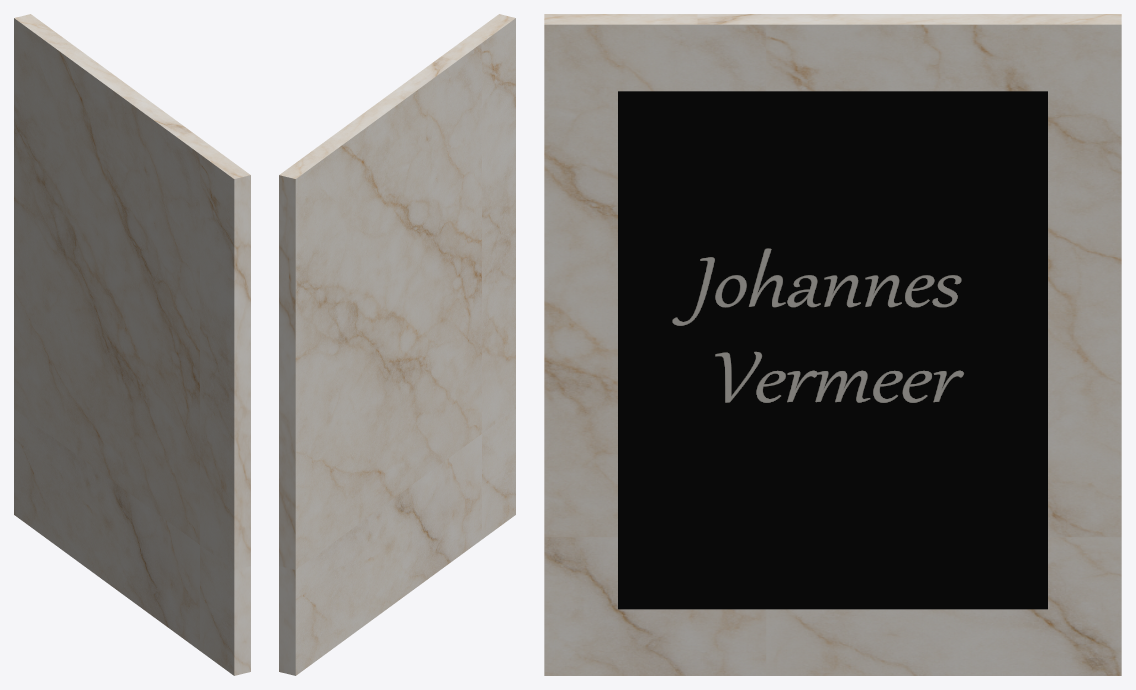
Rendered from Carta vermeer fr.fbx.
3 views of the same model, side by side, from view 1: azimuth 30°, elevation 25°; view 2: azimuth 150°, elevation 25°; view 3: azimuth 270°, elevation 25° (orthographic). The views are drawn at different scales.
Parts seen in each view (by area): view 1: Carta joven.001; view 2: Carta joven.001; view 3: Carta joven.001.
Boxes of the visible parts, <box> form: Carta joven.001: <box>14,14,250,675</box>; Carta joven.001: <box>279,14,515,675</box>; Carta joven.001: <box>544,14,1121,675</box>.
Bounding box in the file's own units: 8.76 × 249 × 200.
2 materials, 2 textured.
